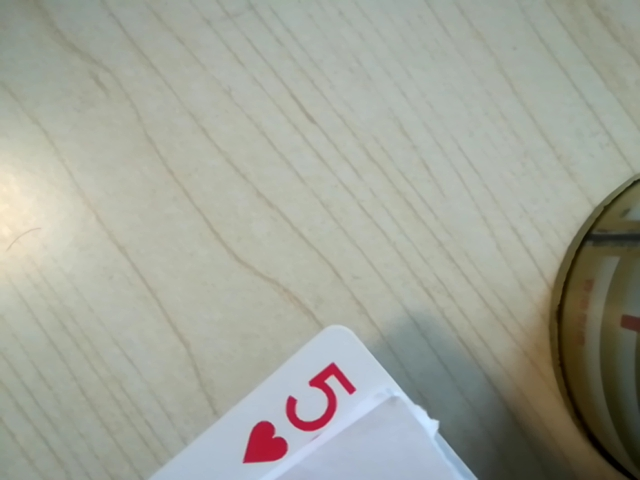hx 5: (243, 358, 367, 466)
